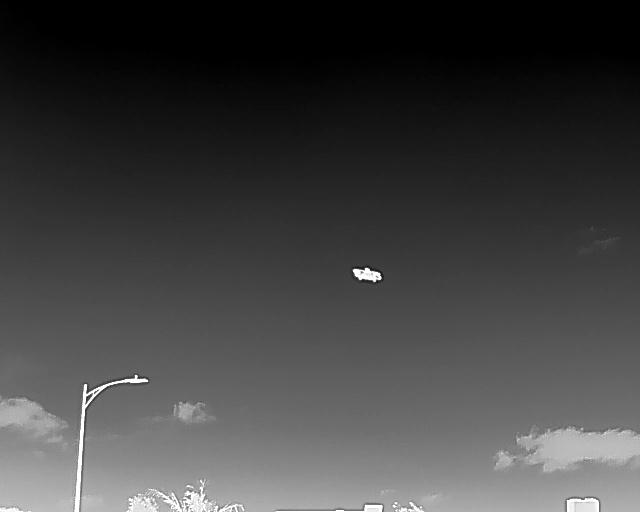fpv-drone: (352, 267, 382, 282)
